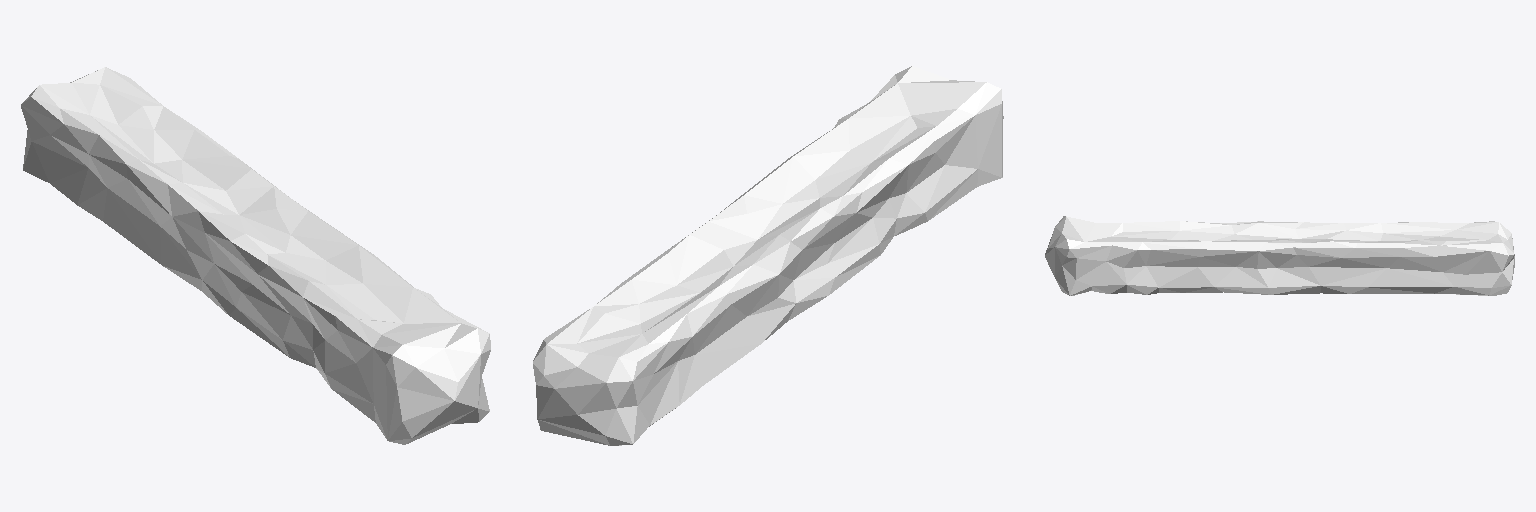
robot.urdf — atb1_bar-8mm:
<?xml version="0.0" ?>
<robot name="atb1_bar-8mm">
  <link name="baseLink">
    <contact>
      <friction_anchor/>
      <lateral_friction value="0.8"/>
      <spinning_friction value="0.001"/>
      <rolling_friction value="0.001"/>
      <contact_cfm value="0.0"/>
      <contact_erp value="0.2"/>
    </contact>
    <inertial>
       <origin rpy="0 0 0" xyz="0 0 0"/>
       <mass value="0.01"/>
       <inertia ixx="1e-3" ixy="0" ixz="0" iyy="1e-3" iyz="0" izz="1e-3"/>
    </inertial>
    <visual>
      <origin rpy="0 0 0" xyz="0 0 0"/>
      <geometry>
        <mesh filename="obj/fused_model.obj" scale="1 1 1"/>
      </geometry>
      <material name="white">
        <color rgba="1. 1. 1. 1."/>
      </material>
    </visual>
    <collision>
      <origin rpy="0 0 0" xyz="0 0 0"/>
      <geometry>
        <mesh filename="obj/fused_model.obj" scale="1 1 1"/>
      </geometry>
    </collision>
  </link>
</robot>

--- Render facts (derived) ---
The picture shows the robot from 3 angles, left to right: view 1: azimuth 30°, elevation 25°; view 2: azimuth 150°, elevation 25°; view 3: azimuth 270°, elevation 25°; orthographic projection.
Robot: atb1_bar-8mm — 1 links, 0 joints (none); root link baseLink; default pose: every joint at zero.
Links seen in each view (by area): view 1: baseLink; view 2: baseLink; view 3: baseLink.
Link boxes in pixels (x1,y1,x2,y2): baseLink: (21, 67, 490, 444); baseLink: (533, 66, 1003, 445); baseLink: (1045, 216, 1514, 295).
Size in the robot's own frame: 0.0079 by 0.0511 by 0.0072 metres.
1 mesh visuals loaded from 1 distinct referenced files (1 OBJ).
